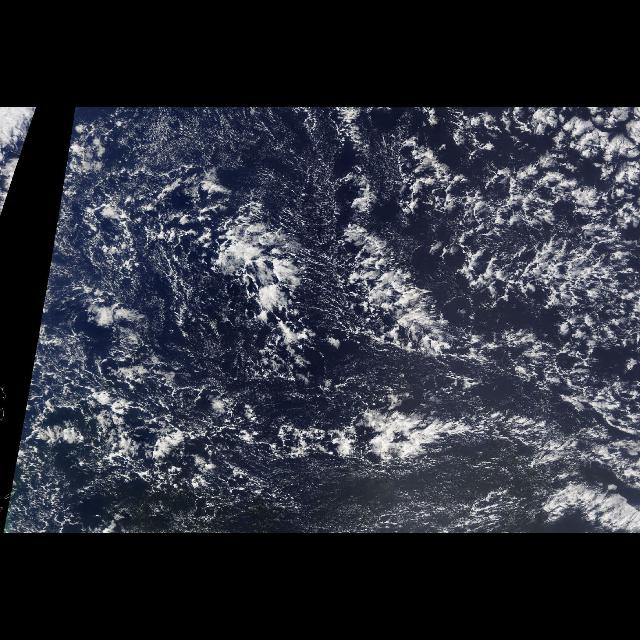Fish: (156, 182, 566, 492)
Gravel: (20, 112, 634, 520)
